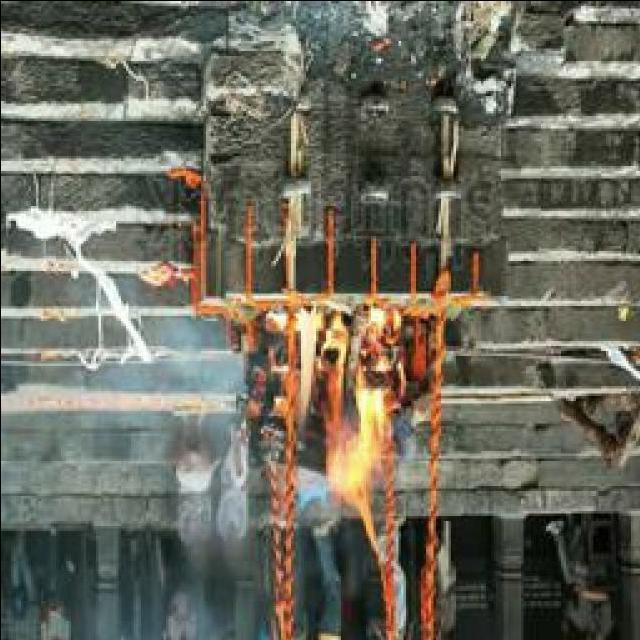Fire: (270, 291, 409, 518)
